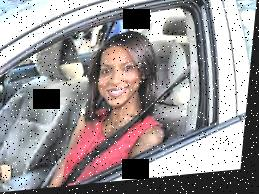seatbelt: (63, 64, 197, 187)
